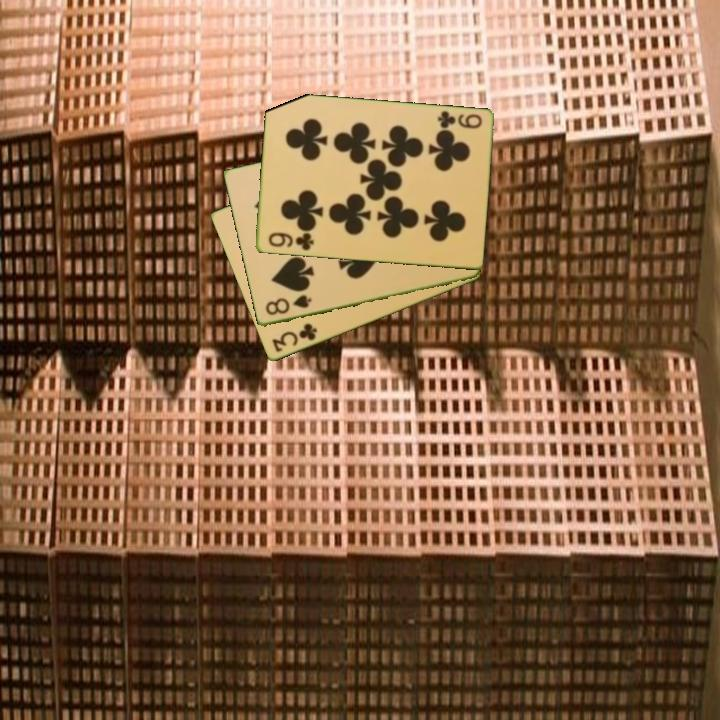3c: (268, 320, 320, 355)
8s: (262, 291, 314, 318)
9c: (265, 229, 317, 254), (434, 107, 485, 132)
